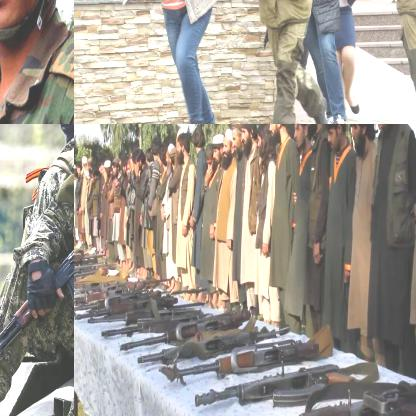rifle: (0, 175, 73, 393), (176, 322, 337, 384), (192, 358, 378, 411), (136, 324, 295, 367), (230, 379, 415, 415), (118, 317, 246, 354)
